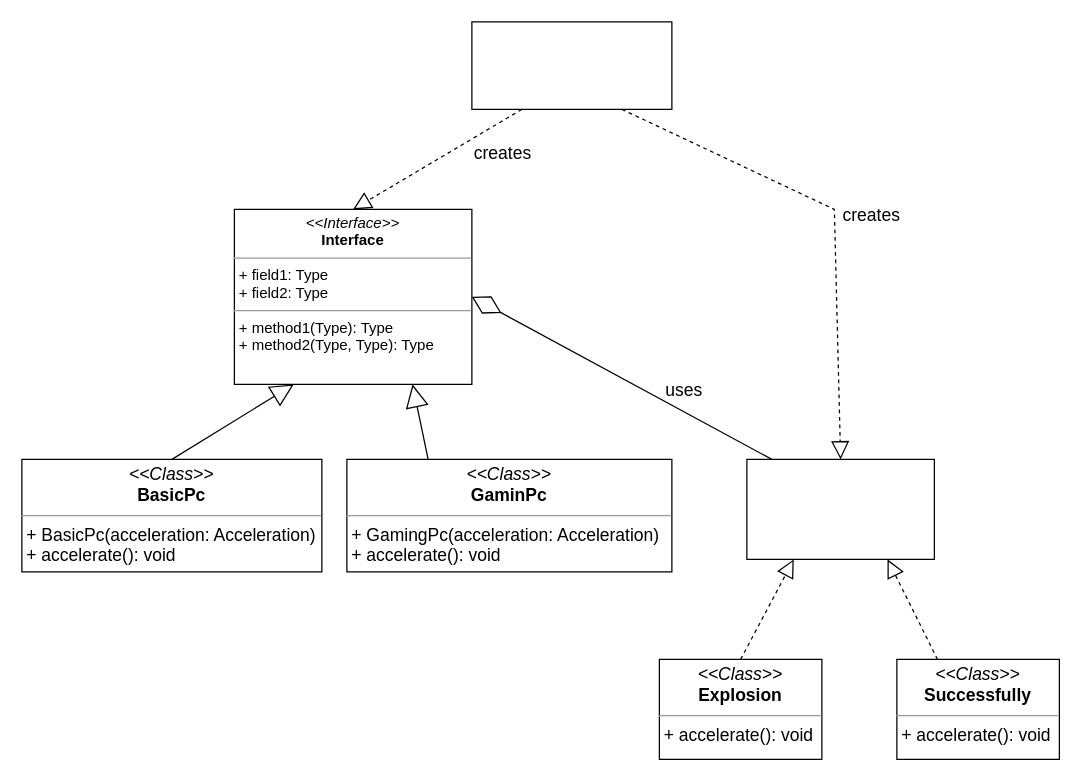
Some shapes in this 1081 by 781 pixel diagram are drawn without their labels. The shapes that lost their labels are listed below. From the top down, each one's centre as x and y in pixels, then its label:
At [571,65]: "<<Class>> Main + main(args: String[]): void".
At [840,508]: "<<Interface>> Acceleration + accelerate(): void".
